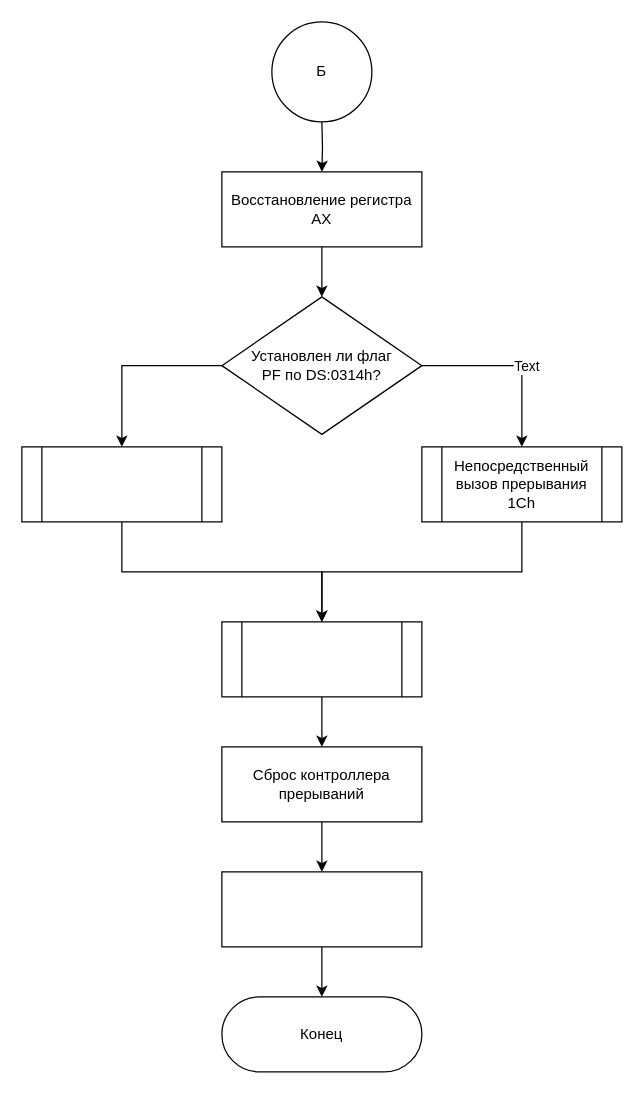
Some shapes in this 644 by 1094 pixel diagram are drawn without their labels. Here are the shapes that lost their labels. From the top down, the box of each, then its label:
(21, 446, 222, 522): Косвенный вызов прерывания 1Ch
(221, 621, 422, 697): Вызов процедуры SUB_6
(221, 871, 422, 947): Восстановление регистров ES, DS, DX, AX
